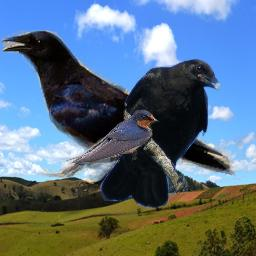Crow: (2, 30, 235, 191), (100, 58, 223, 210)
Swallow: (60, 109, 159, 165)
